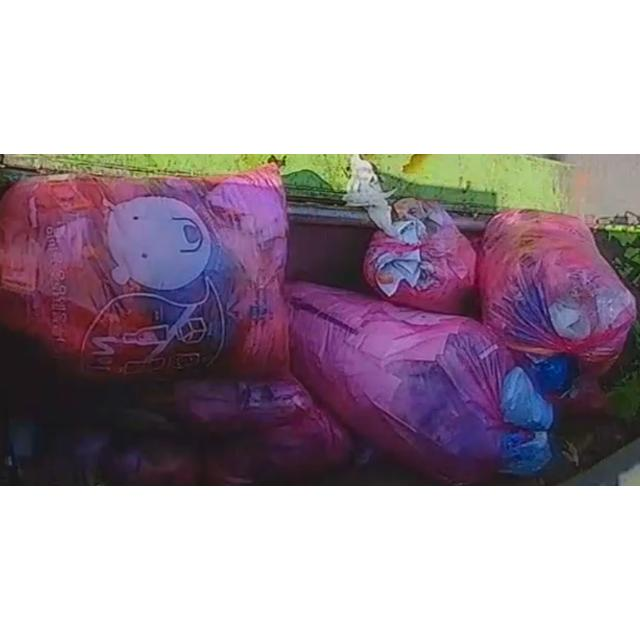other_trashbag: (0, 166, 290, 383), (286, 283, 552, 484), (478, 210, 636, 412), (345, 154, 476, 313), (174, 379, 312, 423)
